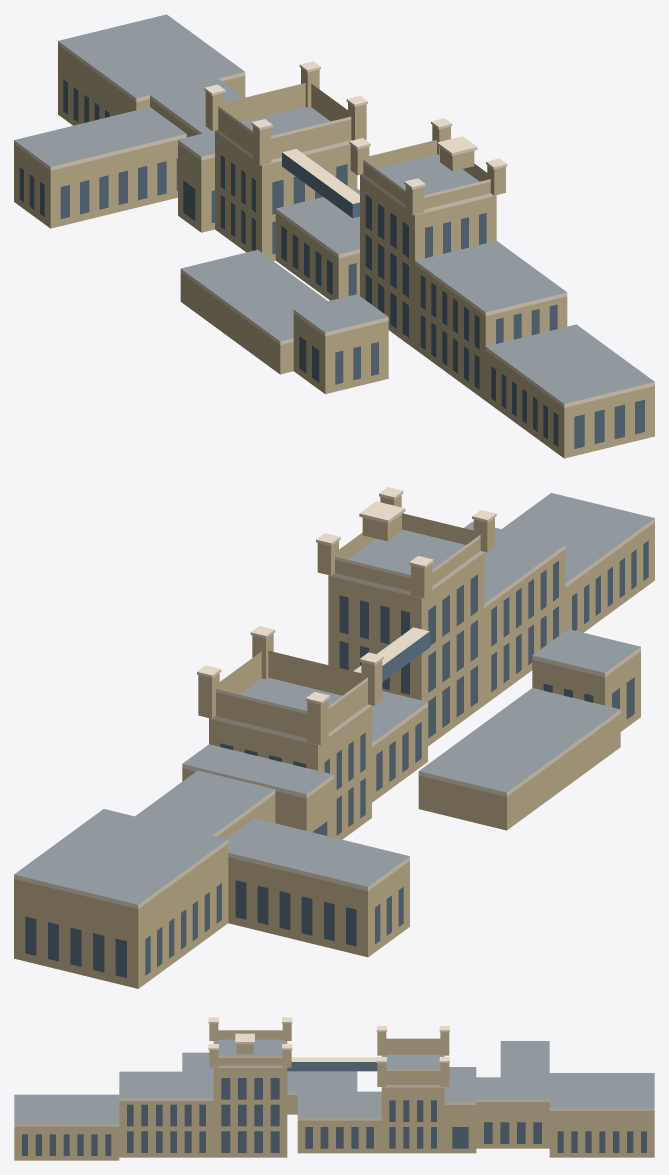
File: sat-museum-of-art.glb
The picture shows the model from 3 angles, top to bottom: view 1: azimuth 30°, elevation 25°; view 2: azimuth 150°, elevation 25°; view 3: azimuth 270°, elevation 25°; orthographic projection. The views are drawn at different scales.
Visible parts, largest first — view 1: San Antonio Museum of Art; view 2: San Antonio Museum of Art; view 3: San Antonio Museum of Art.
Part boxes in pixels (x1,y1,x2,y2): San Antonio Museum of Art: (14, 14, 654, 458); San Antonio Museum of Art: (14, 487, 654, 988); San Antonio Museum of Art: (14, 1017, 654, 1160).
Bounding box in the file's own units: 53.1 × 36.1 × 183.
